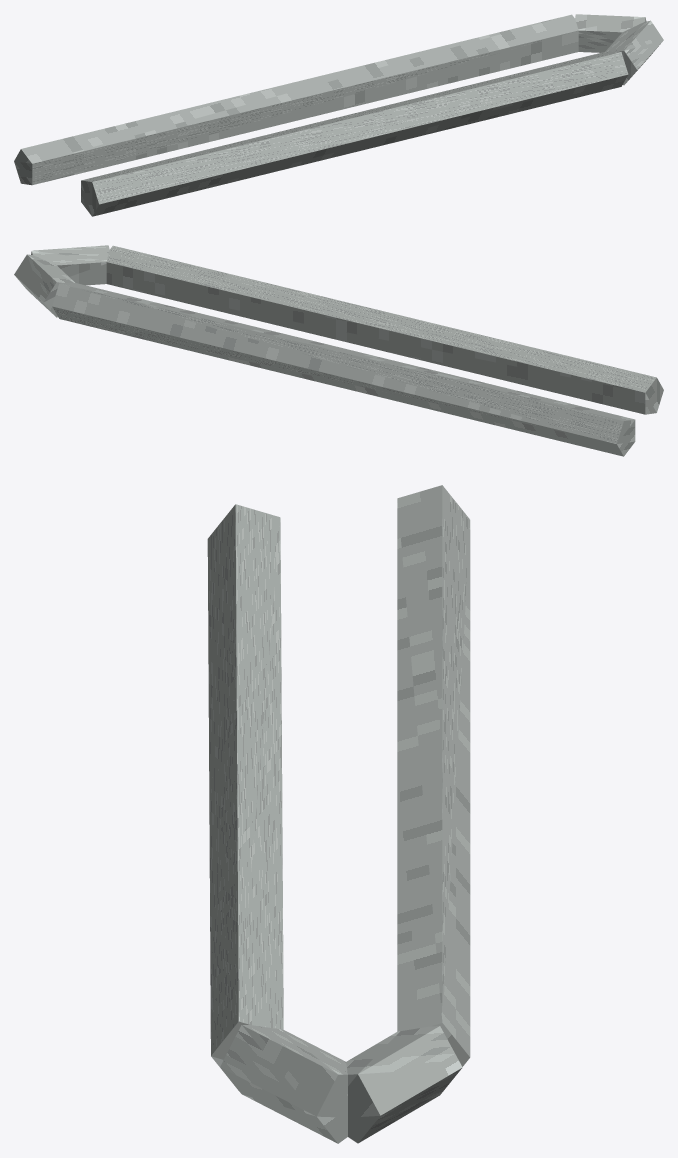
The model's file is silver_hairpin.glb.
3 views of the same model, one above another, from view 1: azimuth 30°, elevation 25°; view 2: azimuth 150°, elevation 25°; view 3: azimuth 270°, elevation 25° (orthographic). The views are drawn at different scales.
Parts seen in each view (by area): view 1: block_folded wire hairpin 0, block_folded wire hairpin 3, block_folded wire hairpin 1, block_folded wire hairpin 2; view 2: block_folded wire hairpin 0, block_folded wire hairpin 3, block_folded wire hairpin 2, block_folded wire hairpin 1; view 3: block_folded wire hairpin 0, block_folded wire hairpin 3, block_folded wire hairpin 2, block_folded wire hairpin 1.
Boxes of the visible parts, bbox=[...] form: block_folded wire hairpin 0: bbox=[14, 14, 578, 185]; block_folded wire hairpin 3: bbox=[81, 51, 628, 216]; block_folded wire hairpin 1: bbox=[575, 14, 646, 52]; block_folded wire hairpin 2: bbox=[605, 20, 663, 85]; block_folded wire hairpin 0: bbox=[52, 283, 635, 456]; block_folded wire hairpin 3: bbox=[106, 245, 663, 414]; block_folded wire hairpin 2: bbox=[31, 245, 109, 285]; block_folded wire hairpin 1: bbox=[14, 254, 74, 317]; block_folded wire hairpin 0: bbox=[397, 485, 470, 1066]; block_folded wire hairpin 3: bbox=[207, 504, 283, 1090]; block_folded wire hairpin 2: bbox=[220, 1025, 347, 1143]; block_folded wire hairpin 1: bbox=[346, 1026, 462, 1143].
Size of the model in its own units: 0.045 by 0.00244 by 0.00836.
Materials: 1 (1 with a texture image).
